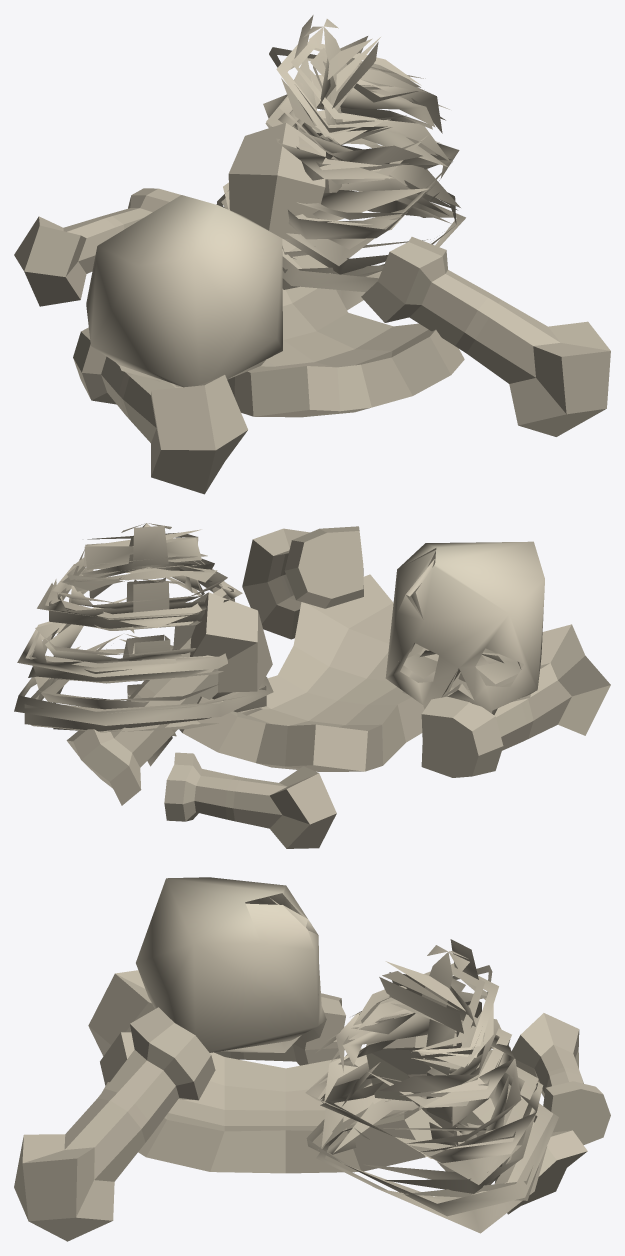
File: decor_5.fbx
3 renders of one model, top to bottom at view 1: azimuth 30°, elevation 25°; view 2: azimuth 150°, elevation 25°; view 3: azimuth 270°, elevation 25°, orthographic. The views are drawn at different scales.
Parts seen in each view (by area): view 1: decor_5; view 2: decor_5; view 3: decor_5.
Boxes of the visible parts, box(x1,y1,x2,y2) form: decor_5: box(14, 15, 610, 494); decor_5: box(14, 523, 610, 848); decor_5: box(14, 877, 610, 1241).
Bounding box in the file's own units: 0.9643 × 0.5637 × 1.11.
